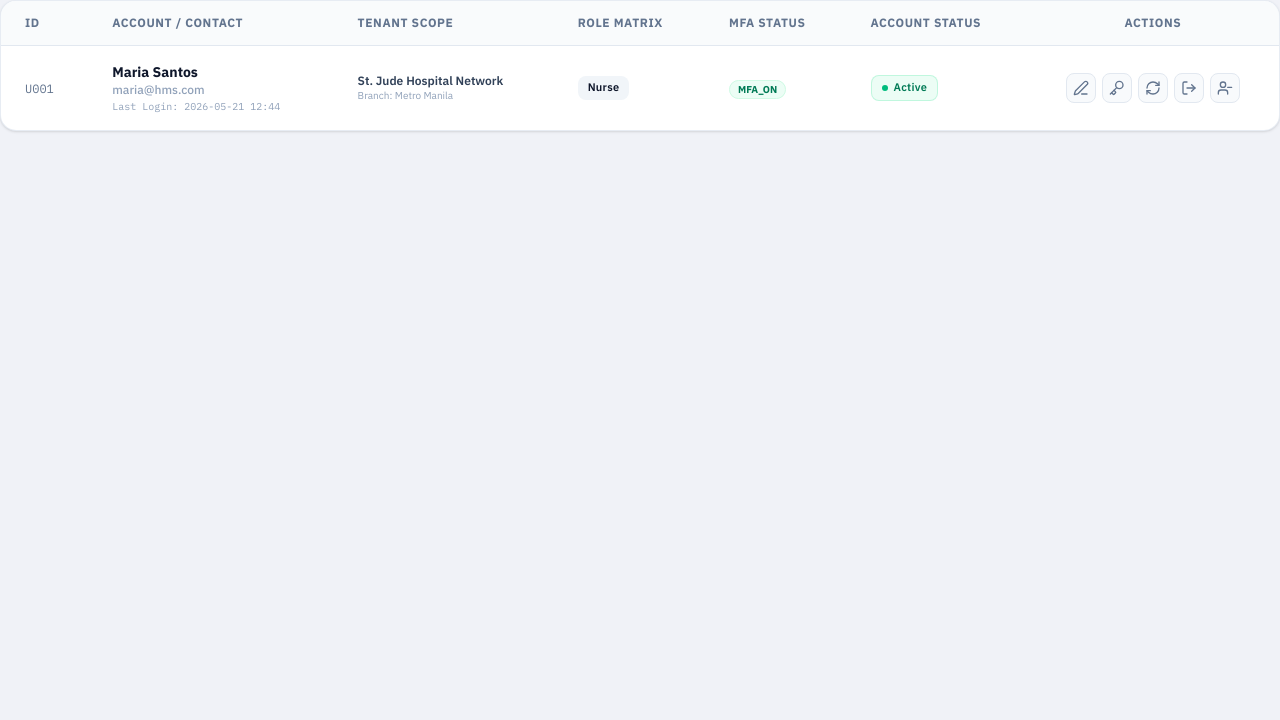
Scenario: UserAccessTable privileged-action tests › edit_role with no availableRoles shows message and Save Changes button
Click the button titled "Edit Roles & Scopes" at [1081, 88], box [1066,73,1096,103]
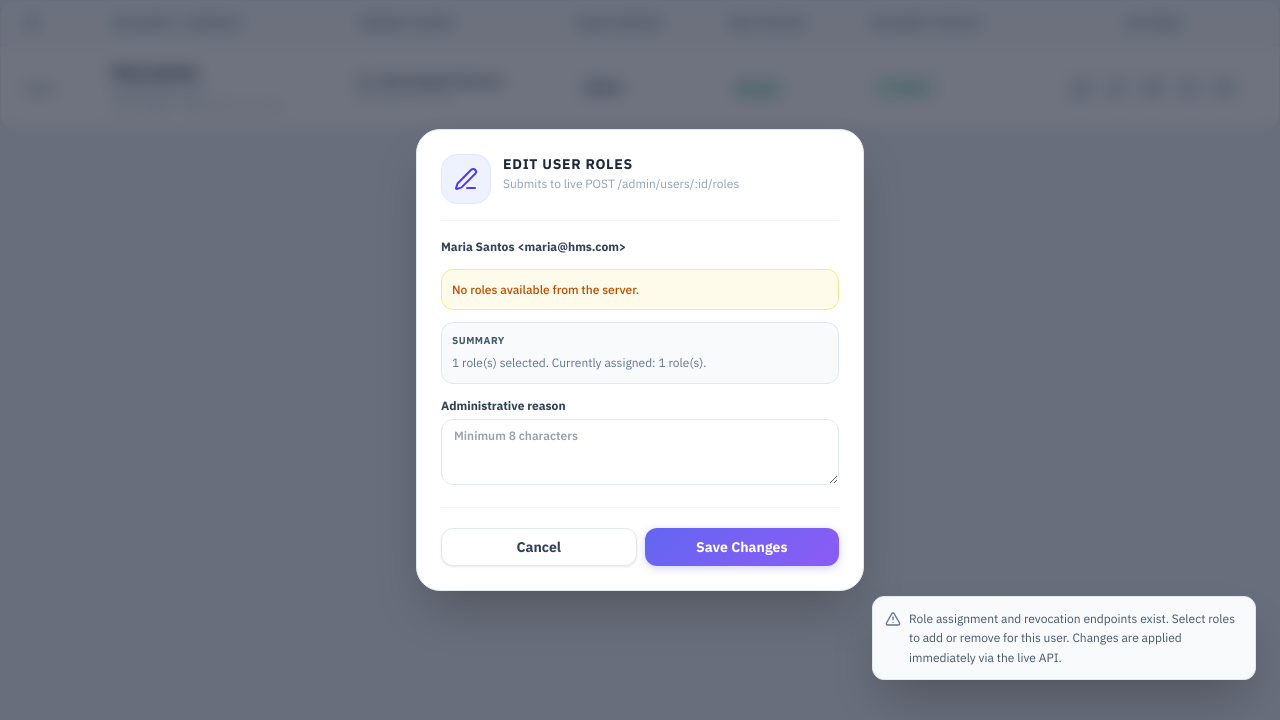
Expected: the text "No roles available from the server." is shown, [441,269,839,310]
Expected: the text box with placeholder "Minimum 8 characters" is shown, [441,419,839,485]
Expected: the button "Save Changes" is shown, [644,528,839,566]
